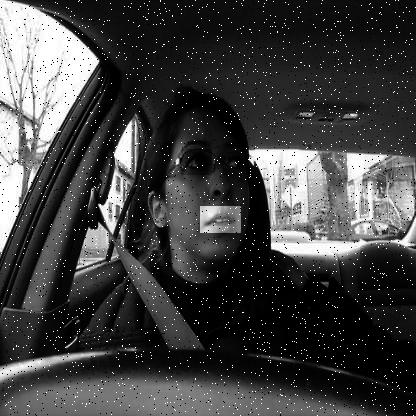seatbelt: (118, 82, 270, 350)
